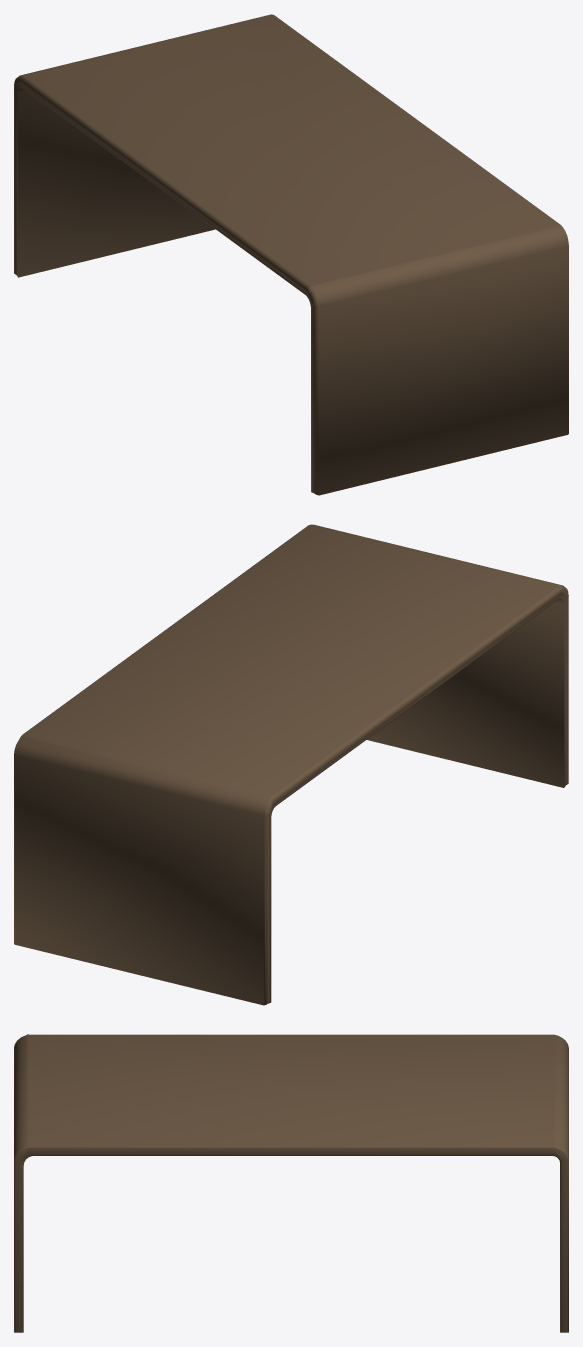
File: ND-0700__Cheval_mesa5.glb
3 views of the same model, one above another, from view 1: azimuth 30°, elevation 25°; view 2: azimuth 150°, elevation 25°; view 3: azimuth 270°, elevation 25° (orthographic). The views are drawn at different scales.
Visible parts, largest first — view 1: Cube; view 2: Cube; view 3: Cube.
Boxes of the visible parts, x1=… form: Cube: x1=14, y1=14, x2=568, y2=495; Cube: x1=14, y1=524, x2=568, y2=1005; Cube: x1=14, y1=1034, x2=568, y2=1332.
Size of the model in its own units: 2.9 by 2.22 by 5.98.
